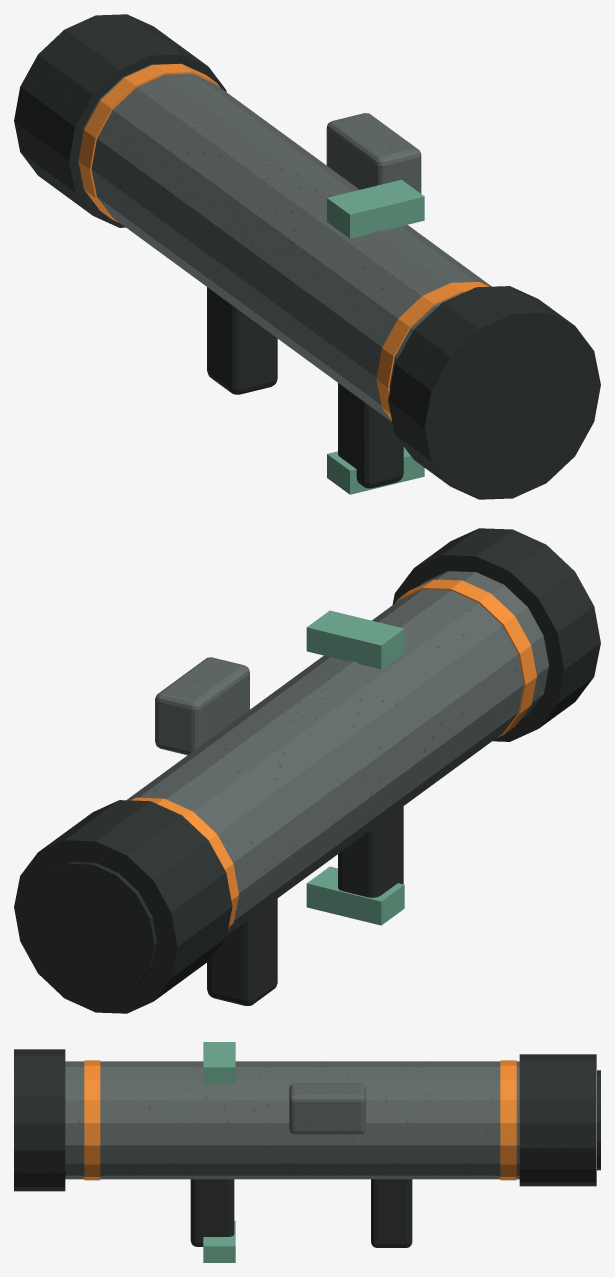
Rendered from rocket_1.glb.
3 views of the same model, one above another, from view 1: azimuth 30°, elevation 25°; view 2: azimuth 150°, elevation 25°; view 3: azimuth 270°, elevation 25° (orthographic). The views are drawn at different scales.
Parts seen in each view (by area): view 1: Weapon_rocket, GRADE_1_RAIL_0_1, GRADE_1_RAIL_0_-1; view 2: Weapon_rocket, GRADE_1_RAIL_0_1, GRADE_1_RAIL_0_-1; view 3: Weapon_rocket, GRADE_1_RAIL_0_1, GRADE_1_RAIL_0_-1.
Boxes of the visible parts, bbox=[...] form: Weapon_rocket: bbox=[14, 14, 600, 499]; GRADE_1_RAIL_0_1: bbox=[327, 179, 424, 238]; GRADE_1_RAIL_0_-1: bbox=[327, 447, 424, 494]; Weapon_rocket: bbox=[14, 528, 600, 1013]; GRADE_1_RAIL_0_1: bbox=[306, 610, 404, 669]; GRADE_1_RAIL_0_-1: bbox=[306, 866, 404, 925]; Weapon_rocket: bbox=[14, 1049, 600, 1247]; GRADE_1_RAIL_0_1: bbox=[203, 1042, 235, 1084]; GRADE_1_RAIL_0_-1: bbox=[203, 1220, 235, 1262].
Bounding box in the file's own units: 0.2475 × 0.3371 × 0.917.
Materials: 4 (3 with a texture image).
